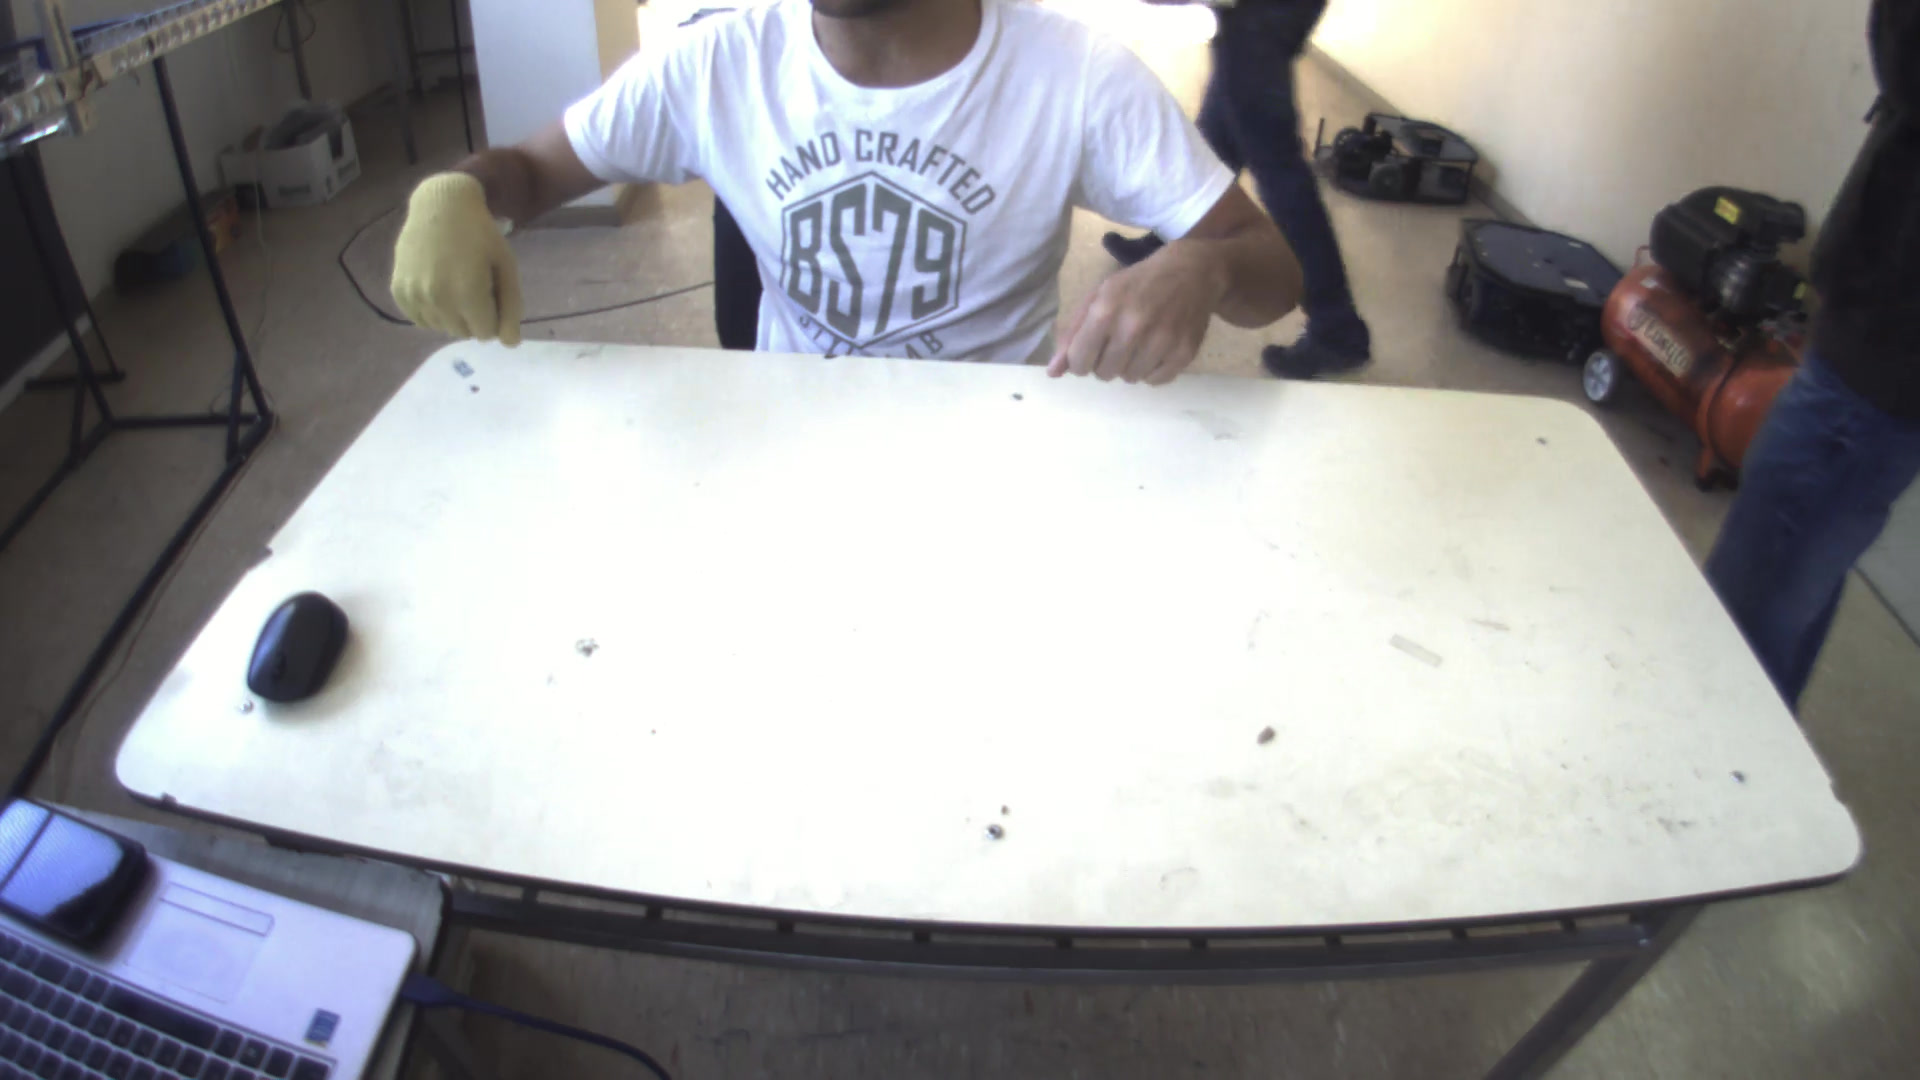hand: (375, 161, 527, 342), (1051, 239, 1215, 385)
